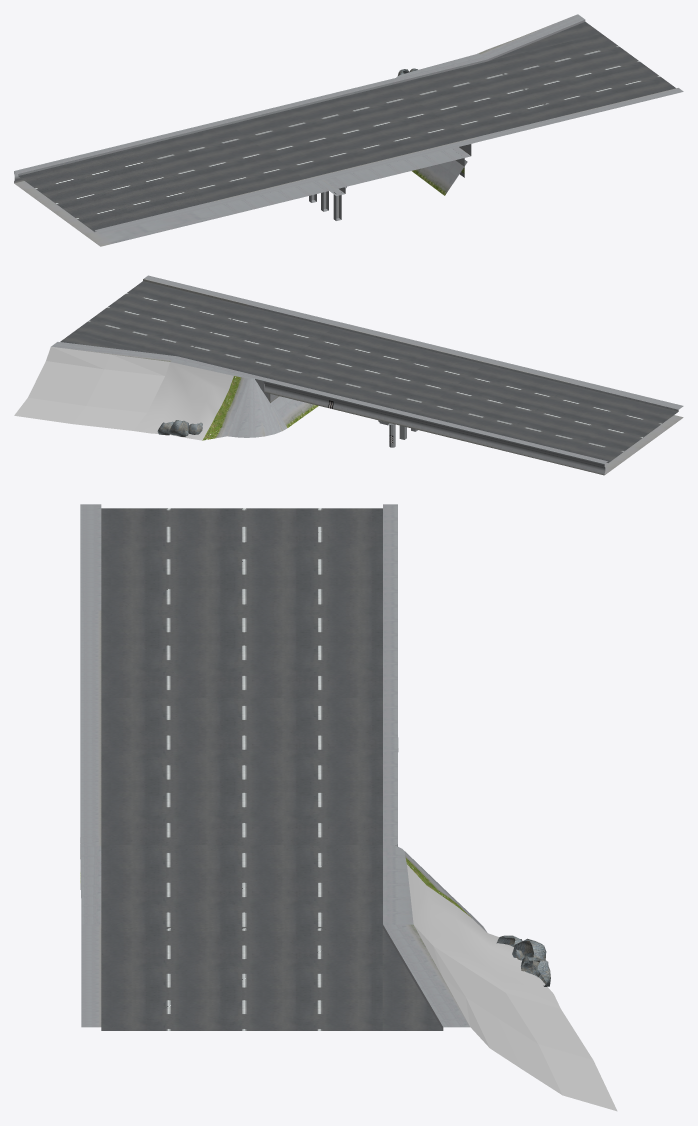
File: rock.FBX
The picture shows the model from 3 angles, top to bottom: view 1: azimuth 30°, elevation 25°; view 2: azimuth 150°, elevation 25°; view 3: azimuth 270°, elevation 25°; orthographic projection. The views are drawn at different scales.
Parts seen in each view (by area): view 1: m7; view 2: m7, stone; view 3: m7, stone.
Boxes of the visible parts, x1=… form: m7: x1=14, y1=14, x2=683, y2=246; m7: x1=14, y1=275, x2=683, y2=475; stone: x1=157, y1=420, x2=202, y2=436; m7: x1=80, y1=504, x2=617, y2=1111; stone: x1=496, y1=935, x2=550, y2=986.
Bounding box in the file's own units: 12016 × 932 × 5220.
